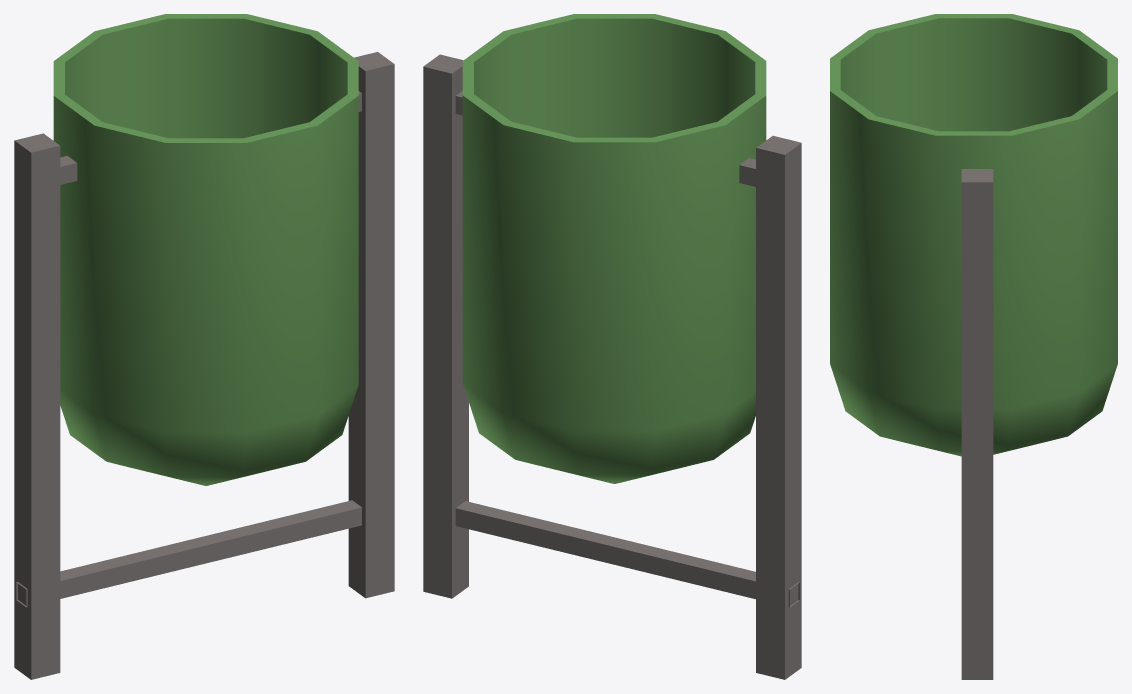
The model's file is SM_Trash_01.fbx.
3 renders of one model, left to right at view 1: azimuth 30°, elevation 25°; view 2: azimuth 150°, elevation 25°; view 3: azimuth 270°, elevation 25°, orthographic. The views are drawn at different scales.
Visible parts, largest first — view 1: SM_Trash_01; view 2: SM_Trash_01; view 3: SM_Trash_01.
Boxes of the visible parts, x1,y1,x2,y2 form: SM_Trash_01: [14, 14, 394, 679]; SM_Trash_01: [423, 14, 801, 679]; SM_Trash_01: [830, 14, 1117, 679].
Size of the model in its own units: 31.66 by 45.8 by 22.91.
